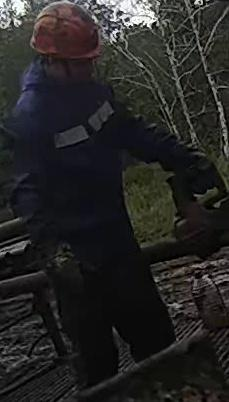gloves: (34, 235, 98, 298), (167, 140, 221, 201)
helmet: (29, 0, 103, 60)
vest: (18, 71, 140, 265)
